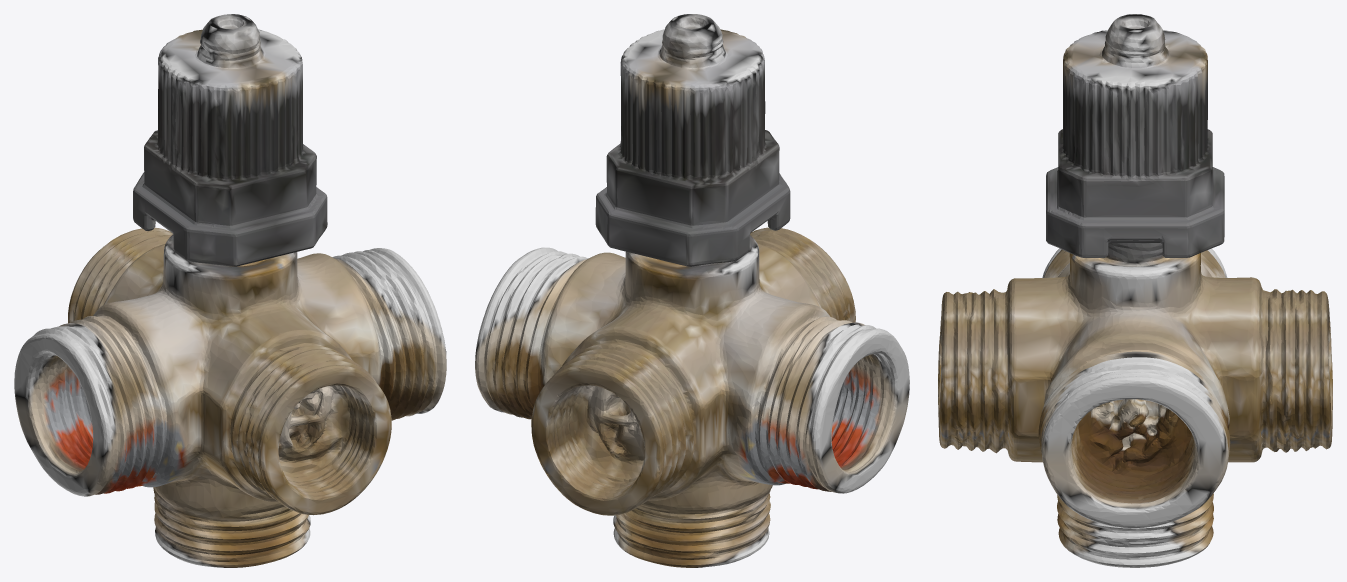
File: machine.glb
3 renders of one model, left to right at view 1: azimuth 30°, elevation 25°; view 2: azimuth 150°, elevation 25°; view 3: azimuth 270°, elevation 25°, orthographic.
Visible parts, largest first — view 1: tmp9a8q1cb2.ply; view 2: tmp9a8q1cb2.ply; view 3: tmp9a8q1cb2.ply.
Part boxes in pixels (bbox=[...]): tmp9a8q1cb2.ply: bbox=[14, 14, 446, 567]; tmp9a8q1cb2.ply: bbox=[475, 14, 909, 567]; tmp9a8q1cb2.ply: bbox=[938, 14, 1332, 567].
Bounding box in the file's own units: 1.4 × 1.99 × 1.38.
